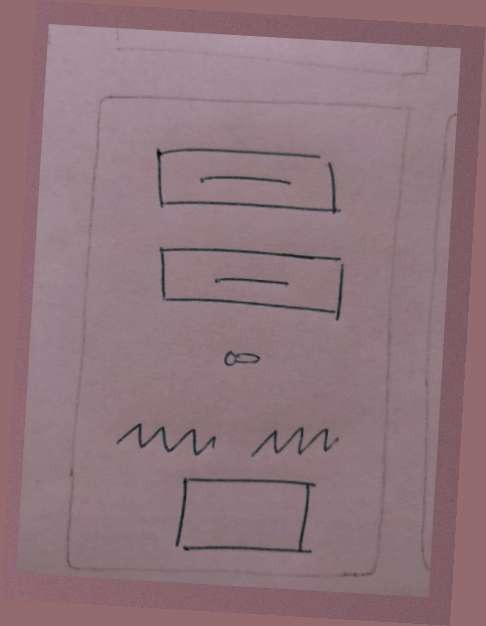button: (144, 234, 354, 324), (146, 139, 350, 224)
switch: (210, 337, 276, 373)
text: (235, 416, 354, 467), (110, 414, 222, 461)
text_input: (164, 469, 328, 565)
